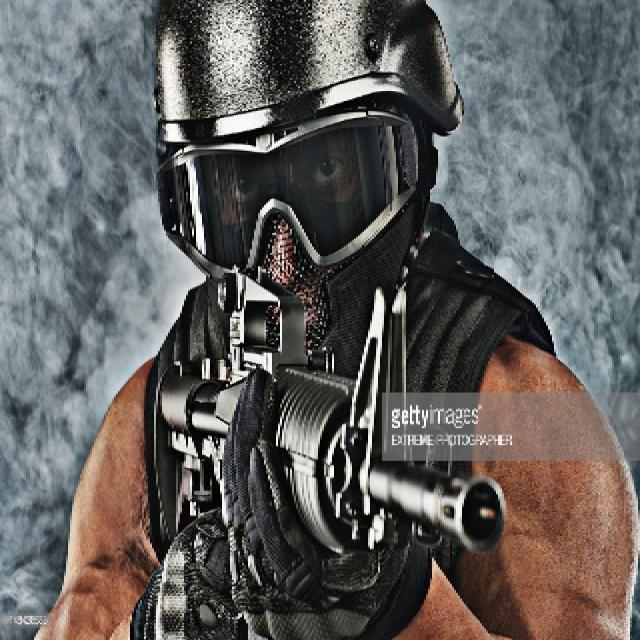weapon: (156, 258, 520, 568)
